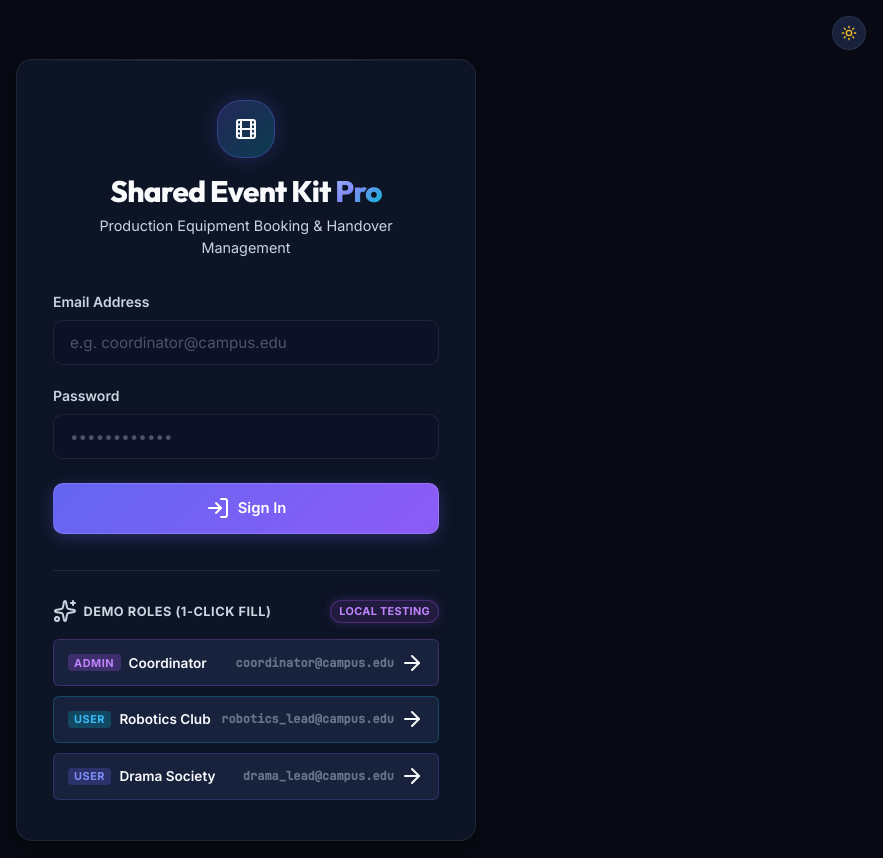
Scenario: Milestone 5: Frontend UI & Interactive Workflows › Two-Role Authorization System UI Enforcement › LoginPage provides demo buttons for Admin and both Club Users
expect the text "Coordinator" is shown: met, box [128,655,207,671]
expect the text "Robotics Club" is shown: met, box [119,712,211,728]
Click the text "Drama Society" at (167, 776), box [119,768,216,784]
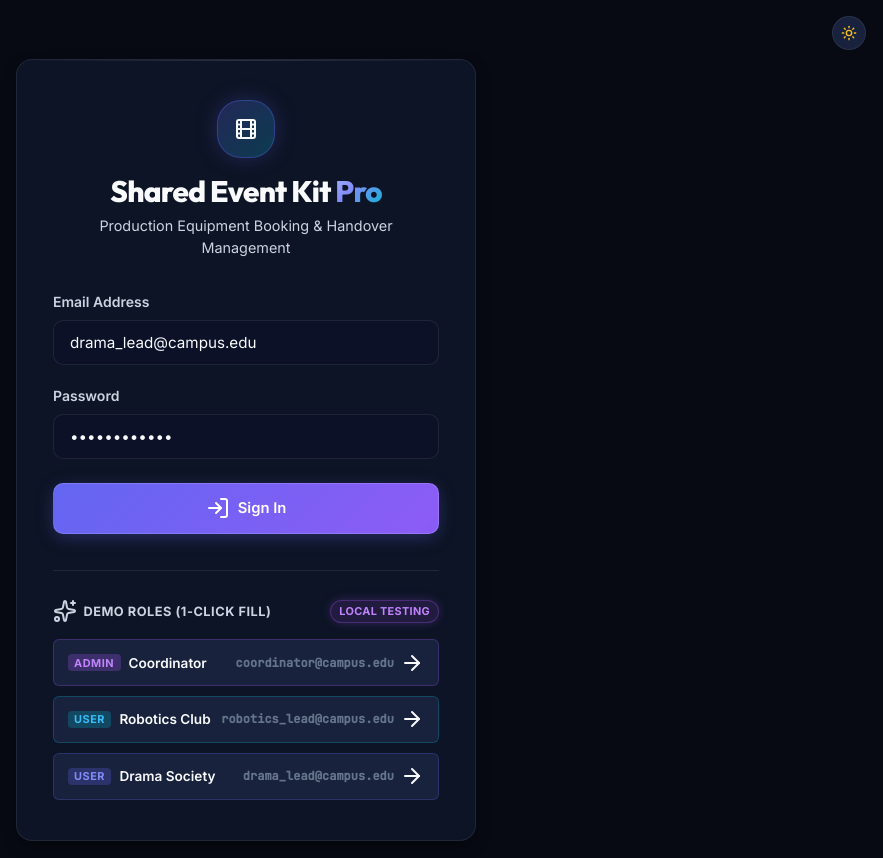
expect the field with placeholder "e.g. coordinator@campus.edu" holds "drama_lead@campus.edu": met, box [53,320,439,365]
